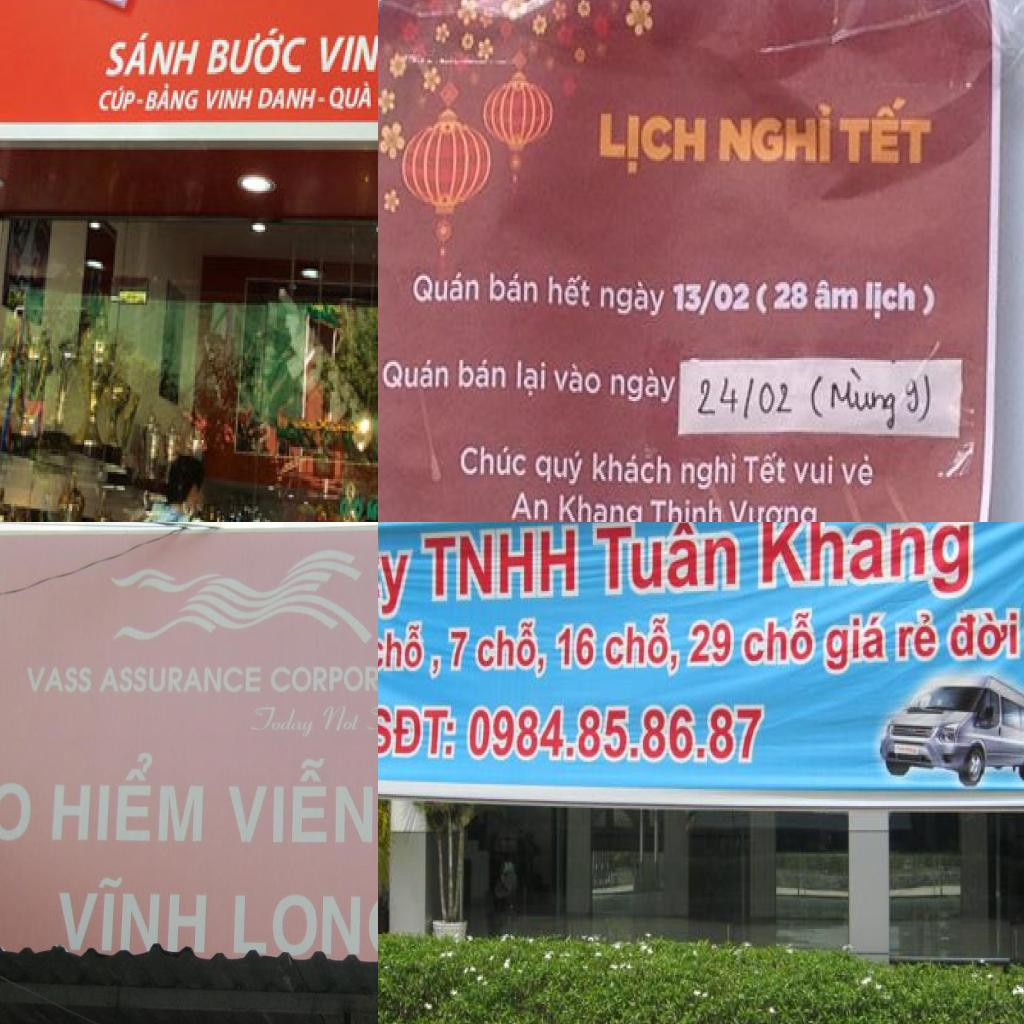text: (464, 702, 770, 770), (43, 748, 213, 848), (752, 522, 981, 594), (222, 752, 378, 851), (49, 873, 212, 961), (420, 522, 582, 610), (587, 522, 745, 603), (227, 889, 378, 962), (717, 95, 838, 171), (598, 110, 712, 177), (840, 96, 935, 174), (205, 20, 311, 81), (599, 613, 684, 680), (99, 664, 264, 698), (100, 26, 204, 79), (378, 700, 461, 766), (739, 606, 818, 675), (821, 603, 890, 681), (942, 603, 1024, 668), (826, 362, 900, 432), (471, 616, 551, 680), (266, 660, 378, 698), (378, 619, 443, 681), (0, 750, 39, 852), (610, 360, 678, 411), (378, 528, 414, 622), (379, 352, 455, 395), (592, 448, 675, 487), (891, 606, 940, 672), (311, 28, 378, 76), (245, 704, 318, 746), (458, 444, 530, 485), (686, 613, 736, 670), (24, 658, 95, 698), (598, 278, 667, 319), (860, 274, 918, 321), (678, 446, 741, 489), (555, 614, 598, 676), (556, 493, 644, 522), (413, 268, 483, 304), (692, 372, 742, 420), (552, 358, 604, 403), (544, 268, 593, 315), (532, 446, 588, 487), (484, 266, 541, 306), (255, 84, 321, 116), (645, 495, 722, 522), (512, 354, 552, 403), (794, 450, 838, 492), (145, 84, 202, 116), (456, 356, 507, 391), (743, 450, 792, 485), (841, 448, 877, 494), (206, 86, 256, 118), (755, 378, 797, 416), (445, 620, 474, 675), (330, 79, 374, 115), (318, 704, 364, 738), (508, 485, 550, 522), (709, 278, 753, 313), (814, 276, 858, 311), (774, 274, 810, 315), (670, 276, 708, 313), (894, 368, 921, 420), (99, 84, 137, 116), (692, 280, 721, 317), (738, 370, 757, 426), (365, 495, 378, 522)
